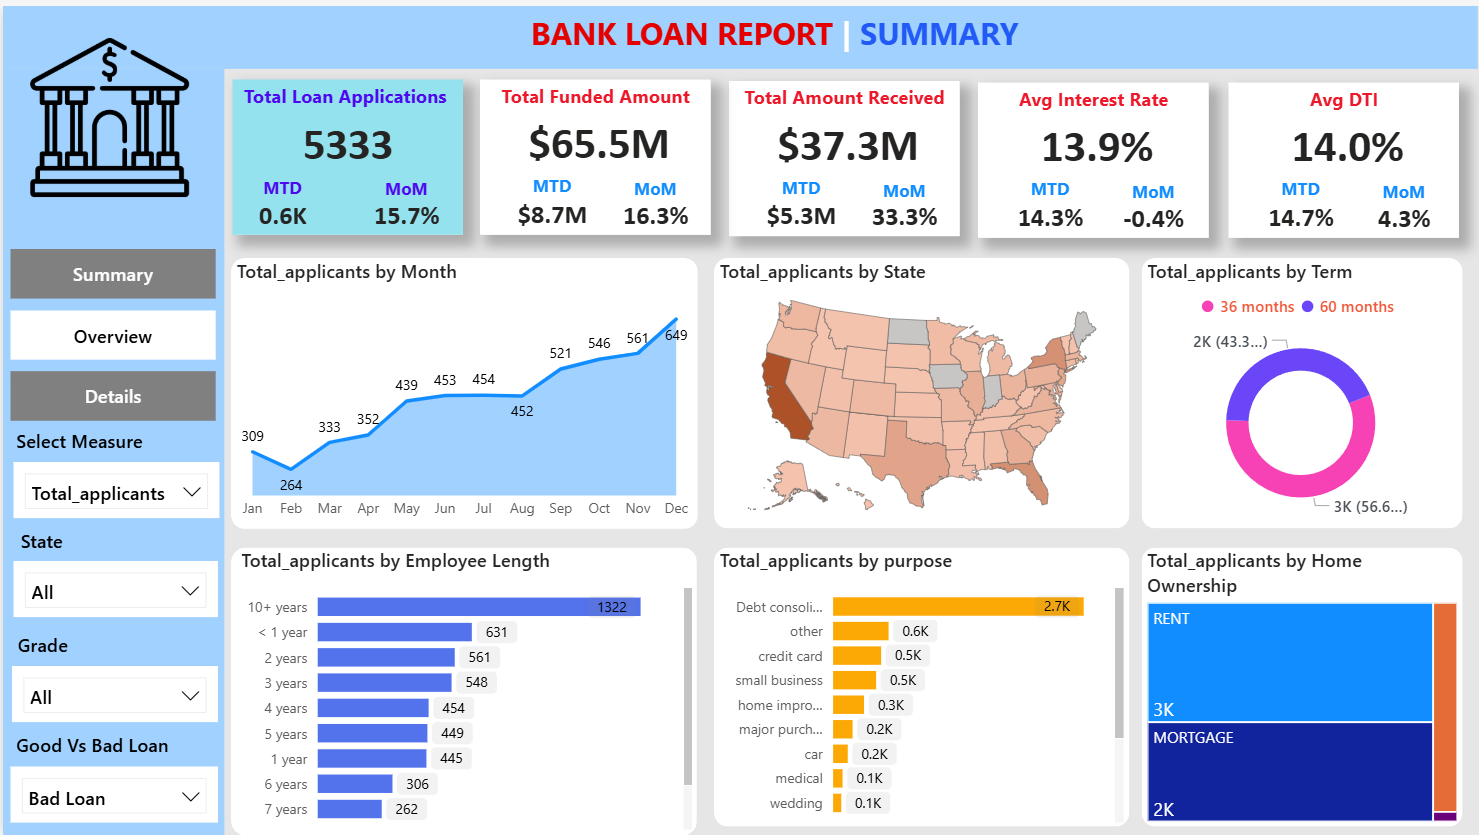

The dashboard page shown, as its layout file describes it:
{"tool":"powerbi","page":{"name":"Summary","canvas":[1280,720],"ordinal":0},"visuals":[{"type":"shape","box":[0,0,1279.5,54.5],"z":0},{"type":"textbox","box":[7.6,399.8,89.3,34.8],"z":0,"group":"g1"},{"type":"slicer","fields":{"Values":["bank_loans bank_loan_data.grade"]},"box":[7.6,537.6,178.7,48.5],"z":0,"group":"g8"},{"type":"slicer","fields":{"Values":["bank_loans bank_loan_data.purpose"]},"box":[7.6,640.5,178.7,48.5],"z":0,"group":"g9"},{"type":"shape","box":[0,54.5,192.3,664.7],"z":1000},{"type":"slicer","fields":{"Values":["bank_loans bank_loan_data.address_state"]},"box":[7.6,434.6,178.7,48.5],"z":1000,"group":"g1"},{"type":"textbox","box":[7.6,502.8,89.3,34.8],"z":1000,"group":"g8"},{"type":"textbox","box":[7.6,605.7,89.3,34.8],"z":1000,"group":"g9"},{"type":"textbox","box":[452.7,0,457.3,54.5],"z":2000},{"type":"group","id":"g1","title":"Group 4","box":[7.6,399.8,178.7,83.3],"z":2000,"group":"g8"},{"type":"group","id":"g2","title":"Group 1","box":[198.4,61.3,204.6,137.8],"z":3000},{"type":"shape","box":[415.8,63.6,199.9,134.8],"z":3000,"group":"g5"},{"type":"shape","box":[203.2,64.3,199.9,134.8],"z":3000,"group":"g2"},{"type":"shape","box":[631.5,65.1,199.9,134.8],"z":3000,"group":"g3"},{"type":"shape","box":[847.3,66.6,199.9,134.8],"z":3000,"group":"g4"},{"type":"shape","box":[1063,66.6,199.9,134.8],"z":3000,"group":"g6"},{"type":"group","id":"g3","title":"Group 1","box":[631.5,62.1,202.9,139.3],"z":4000},{"type":"card","fields":{"Values":["bank_loans bank_loan_data.Total_applicants"]},"box":[232.9,89.3,131.7,42.4],"z":4000,"group":"g2"},{"type":"card","fields":{"Values":["bank_loans bank_loan_data.Total_funded_amount"]},"box":[416.5,93.1,202.9,45.4],"z":4000,"group":"g5"},{"type":"card","fields":{"Values":["bank_loans bank_loan_data.Total Amount Recived"]},"box":[632.2,94.6,202.9,45.4],"z":4000,"group":"g3"},{"type":"card","fields":{"Values":["bank_loans bank_loan_data.Avg interest rate"]},"box":[848,96.1,202.9,45.4],"z":4000,"group":"g4"},{"type":"card","fields":{"Values":["bank_loans bank_loan_data.Avg DTI"]},"box":[1063.7,96.1,202.9,45.4],"z":4000,"group":"g6"},{"type":"textbox","box":[421.9,60.6,187.8,33.3],"z":5000,"group":"g5"},{"type":"textbox","box":[206.9,61.3,187.8,33.3],"z":5000,"group":"g2"},{"type":"textbox","box":[637.6,62.1,187.8,33.3],"z":5000,"group":"g3"},{"type":"textbox","box":[853.4,63.6,187.8,33.3],"z":5000,"group":"g4"},{"type":"textbox","box":[1069.1,63.6,187.8,33.3],"z":5000,"group":"g6"},{"type":"shape","box":[198.4,218,522.4,260.4],"z":5000},{"type":"card","title":"MTD","fields":{"Values":["bank_loans bank_loan_data.MTD_ Loan Application"]},"box":[198.4,140.7,89.3,54.5],"z":6000,"group":"g2"},{"type":"card","title":"MTD","fields":{"Values":["bank_loans bank_loan_data.MTD funded amount"]},"box":[431.2,145.4,93.9,54.5],"z":6000,"group":"g5"},{"type":"card","title":"MTD","fields":{"Values":["bank_loans bank_loan_data.MTD Total Amount Received"]},"box":[646.9,146.9,93.9,54.5],"z":6000,"group":"g3"},{"type":"card","title":"MTD","fields":{"Values":["bank_loans bank_loan_data.MTD Avg Interest Rate"]},"box":[862.7,148.4,93.9,54.5],"z":6000,"group":"g4"},{"type":"card","title":"MTD","fields":{"Values":["bank_loans bank_loan_data.MTD Avg Interest Rate"]},"box":[1078.4,148.4,93.9,54.5],"z":6000,"group":"g6"},{"type":"card","fields":{"Values":["bank_loans bank_loan_data.Good Loan %"]},"box":[249.8,342.2,148.4,45.4],"z":6000},{"type":"card","title":"MoM","fields":{"Values":["bank_loans bank_loan_data.MoM applications"]},"box":[305.1,142.2,90.9,51.5],"z":7000,"group":"g2"},{"type":"card","title":"MoM","fields":{"Values":["bank_loans bank_loan_data.MoM total funded amount"]},"box":[522,147.5,90.9,51.5],"z":7000,"group":"g5"},{"type":"card","title":"MoM","fields":{"Values":["bank_loans bank_loan_data.MoM Total Amount Received"]},"box":[737.7,149,90.9,51.5],"z":7000,"group":"g3"},{"type":"card","title":"MoM","fields":{"Values":["bank_loans bank_loan_data.MoM Avg Interest Rate"]},"box":[953.5,150.5,90.9,51.5],"z":7000,"group":"g4"},{"type":"card","title":"MoM","fields":{"Values":["bank_loans bank_loan_data.MoM Avg DTI"]},"box":[1169.2,150.5,90.9,51.5],"z":7000,"group":"g6"},{"type":"shape","box":[742,218,520.9,258.9],"z":7000},{"type":"group","id":"g4","title":"Group 1","box":[847.3,63.6,202.9,139.3],"z":8000},{"type":"textbox","box":[782.9,221.1,186.2,48.5],"z":8000,"group":"g10"},{"type":"group","id":"g5","title":"Group 1","box":[415.8,60.6,202.9,139.3],"z":9000},{"type":"group","id":"g6","title":"Group 1","box":[1063,63.6,202.9,139.3],"z":10000},{"type":"donutChart","fields":{"Category":["bank_loans bank_loan_data.Good Loan Vs Bad Loan"],"Y":["bank_loans bank_loan_data.Total_applicants"]},"box":[195.3,247.6,249.8,230.2],"z":10000,"group":"g7"},{"type":"card","fields":{"Values":["bank_loans bank_loan_data.Bad Good Loan %"]},"box":[805.6,337.7,148.4,45.4],"z":11000},{"type":"group","id":"g7","title":"Group 3","box":[195.3,213.5,1064.5,265],"z":12000},{"type":"cardVisual","fields":{"Data":["bank_loans bank_loan_data.Good Loan Applications","bank_loans bank_loan_data.Good Loan Funded amount","bank_loans bank_loan_data.Good Loan Received Amount"]},"box":[455.7,217.4,263.5,260.4],"z":13000,"group":"g7"},{"type":"shape","box":[198.4,483,1066,236.2],"z":13000},{"type":"donutChart","fields":{"Category":["bank_loans bank_loan_data.Good Loan Vs Bad Loan"],"Y":["bank_loans bank_loan_data.Total_applicants"]},"box":[749.6,240.8,249.8,230.2],"z":14000,"group":"g10"},{"type":"tableEx","fields":{"Values":["bank_loans bank_loan_data.loan_status","bank_loans bank_loan_data.Total_applicants","bank_loans bank_loan_data.Total_funded_amount","bank_loans bank_loan_data.Total Amount Recived","bank_loans bank_loan_data.MTD funded amount","bank_loans bank_loan_data.MTD Total Amount Received","bank_loans bank_loan_data.Avg interest rate","bank_loans bank_loan_data.Avg DTI"]},"box":[222.6,517.9,1017.5,201.4],"z":14000},{"type":"textbox","box":[224.1,475.5,137.8,45.4],"z":15000},{"type":"textbox","box":[219.5,224.9,201.4,45.4],"z":16000,"group":"g7"},{"type":"group","id":"g8","title":"Group 5","box":[7.6,399.8,178.7,186.2],"z":16000},{"type":"cardVisual","fields":{"Data":["bank_loans bank_loan_data.Bad Good Loan Applications","bank_loans bank_loan_data.Bad Loan Funded amount","bank_loans bank_loan_data.Good Loan Received Amount"]},"box":[996.4,213.5,263.5,260.4],"z":17000,"group":"g10"},{"type":"group","id":"g9","title":"Group 6","box":[7.6,605.7,178.7,83.3],"z":17000},{"type":"image","box":[22.7,10.6,148.4,172.6],"z":17001},{"type":"group","id":"g10","title":"Group 2","box":[749.6,213.5,510.3,260.4],"z":17001,"group":"g7"},{"type":"pageNavigator","box":[7.6,221.1,178.7,149.9],"z":17002}]}

Visuals, with their boxes in screenshot pixels (x1, y1, x2, y2), scaled from the page's 1280x720 canvas onto the 1479x835 screenshot:
shape: pyautogui.locateOnScreen(0, 0, 1478, 63)
textbox: pyautogui.locateOnScreen(9, 464, 112, 504)
slicer - bank_loans bank_loan_data.grade: pyautogui.locateOnScreen(9, 623, 215, 680)
slicer - bank_loans bank_loan_data.purpose: pyautogui.locateOnScreen(9, 743, 215, 799)
shape: pyautogui.locateOnScreen(0, 63, 222, 834)
slicer - bank_loans bank_loan_data.address_state: pyautogui.locateOnScreen(9, 504, 215, 560)
textbox: pyautogui.locateOnScreen(9, 583, 112, 623)
textbox: pyautogui.locateOnScreen(9, 702, 112, 743)
textbox: pyautogui.locateOnScreen(523, 0, 1051, 63)
"Group 4" group: pyautogui.locateOnScreen(9, 464, 215, 560)
"Group 1" group: pyautogui.locateOnScreen(229, 71, 466, 231)
shape: pyautogui.locateOnScreen(480, 74, 711, 230)
shape: pyautogui.locateOnScreen(235, 75, 466, 231)
shape: pyautogui.locateOnScreen(730, 75, 961, 232)
shape: pyautogui.locateOnScreen(979, 77, 1210, 234)
shape: pyautogui.locateOnScreen(1228, 77, 1459, 234)
"Group 1" group: pyautogui.locateOnScreen(730, 72, 964, 234)
card - bank_loans bank_loan_data.Total_applicants: pyautogui.locateOnScreen(269, 104, 421, 153)
card - bank_loans bank_loan_data.Total_funded_amount: pyautogui.locateOnScreen(481, 108, 716, 161)
card - bank_loans bank_loan_data.Total Amount Recived: pyautogui.locateOnScreen(730, 110, 965, 162)
card - bank_loans bank_loan_data.Avg interest rate: pyautogui.locateOnScreen(980, 111, 1214, 164)
card - bank_loans bank_loan_data.Avg DTI: pyautogui.locateOnScreen(1229, 111, 1464, 164)
textbox: pyautogui.locateOnScreen(487, 70, 704, 109)
textbox: pyautogui.locateOnScreen(239, 71, 456, 110)
textbox: pyautogui.locateOnScreen(737, 72, 954, 111)
textbox: pyautogui.locateOnScreen(986, 74, 1203, 112)
textbox: pyautogui.locateOnScreen(1235, 74, 1452, 112)
shape: pyautogui.locateOnScreen(229, 253, 833, 555)
"MTD" card: pyautogui.locateOnScreen(229, 163, 332, 226)
"MTD" card: pyautogui.locateOnScreen(498, 169, 607, 232)
"MTD" card: pyautogui.locateOnScreen(747, 170, 856, 234)
"MTD" card: pyautogui.locateOnScreen(997, 172, 1105, 235)
"MTD" card: pyautogui.locateOnScreen(1246, 172, 1355, 235)
card - bank_loans bank_loan_data.Good Loan %: pyautogui.locateOnScreen(289, 397, 460, 450)
"MoM" card: pyautogui.locateOnScreen(353, 165, 458, 225)
"MoM" card: pyautogui.locateOnScreen(603, 171, 708, 231)
"MoM" card: pyautogui.locateOnScreen(852, 173, 957, 233)
"MoM" card: pyautogui.locateOnScreen(1102, 175, 1207, 234)
"MoM" card: pyautogui.locateOnScreen(1351, 175, 1456, 234)
shape: pyautogui.locateOnScreen(857, 253, 1459, 553)
"Group 1" group: pyautogui.locateOnScreen(979, 74, 1213, 235)
textbox: pyautogui.locateOnScreen(905, 256, 1120, 313)
"Group 1" group: pyautogui.locateOnScreen(480, 70, 715, 232)
"Group 1" group: pyautogui.locateOnScreen(1228, 74, 1463, 235)
donutChart - bank_loans bank_loan_data.Good Loan Vs Bad Loan x bank_loans bank_loan_data.Total_applicants: pyautogui.locateOnScreen(226, 287, 514, 554)
card - bank_loans bank_loan_data.Bad Good Loan %: pyautogui.locateOnScreen(931, 392, 1102, 444)
"Group 3" group: pyautogui.locateOnScreen(226, 248, 1456, 555)
cardVisual - bank_loans bank_loan_data.Good Loan Applications x bank_loans bank_loan_data.Good Loan Funded amount: pyautogui.locateOnScreen(527, 252, 831, 554)
shape: pyautogui.locateOnScreen(229, 560, 1461, 834)
donutChart - bank_loans bank_loan_data.Good Loan Vs Bad Loan x bank_loans bank_loan_data.Total_applicants: pyautogui.locateOnScreen(866, 279, 1155, 546)
tableEx - bank_loans bank_loan_data.loan_status x bank_loans bank_loan_data.Total_applicants: pyautogui.locateOnScreen(257, 601, 1433, 834)
textbox: pyautogui.locateOnScreen(259, 551, 418, 604)
textbox: pyautogui.locateOnScreen(254, 261, 486, 313)
"Group 5" group: pyautogui.locateOnScreen(9, 464, 215, 680)
cardVisual - bank_loans bank_loan_data.Bad Good Loan Applications x bank_loans bank_loan_data.Bad Loan Funded amount: pyautogui.locateOnScreen(1151, 248, 1456, 550)
"Group 6" group: pyautogui.locateOnScreen(9, 702, 215, 799)
image: pyautogui.locateOnScreen(26, 12, 198, 212)
"Group 2" group: pyautogui.locateOnScreen(866, 248, 1456, 550)
pageNavigator: pyautogui.locateOnScreen(9, 256, 215, 430)
